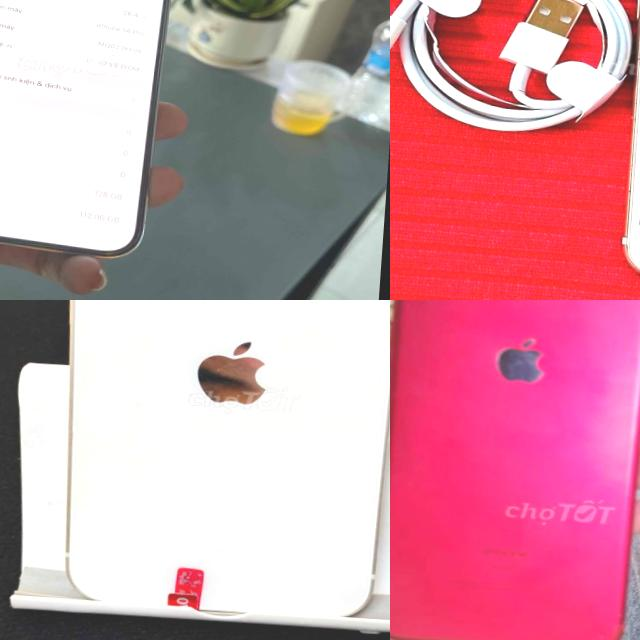gen_12_13: (41, 300, 390, 626)
gen_14: (0, 0, 184, 267)
gen_7_8: (390, 300, 640, 640)
scratch: (494, 332, 548, 384), (584, 607, 628, 640)
